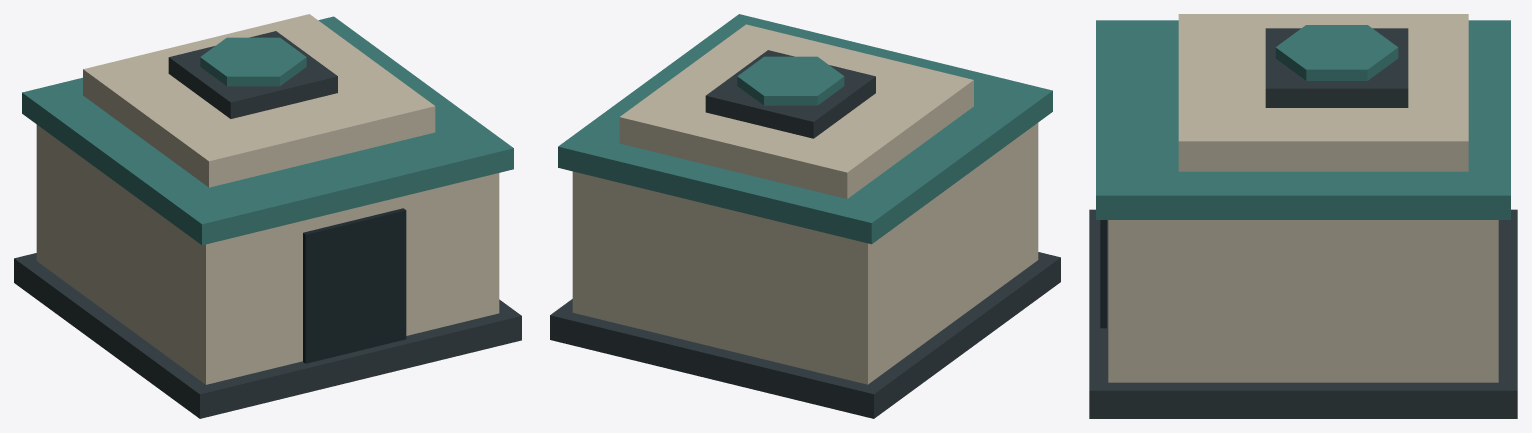
File: factory-lod1.8edbe0c2f0f6.glb
3 views of the same model, side by side, from view 1: azimuth 30°, elevation 25°; view 2: azimuth 150°, elevation 25°; view 3: azimuth 270°, elevation 25° (orthographic). The views are drawn at different scales.
Visible parts, largest first — view 1: body; view 2: body; view 3: body.
Part boxes in pixels (x1=…): body: x1=14, y1=14, x2=521, y2=418; body: x1=550, y1=14, x2=1060, y2=418; body: x1=1089, y1=14, x2=1517, y2=418.
Bounding box in the file's own units: 3.84 × 2.78 × 3.84.
